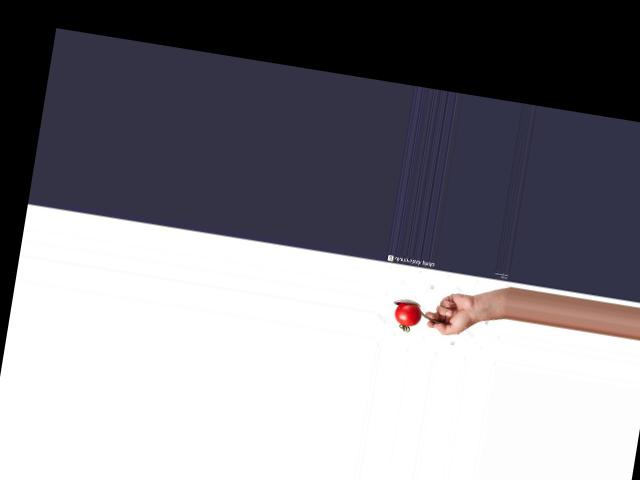tomato: (393, 301, 423, 328)
